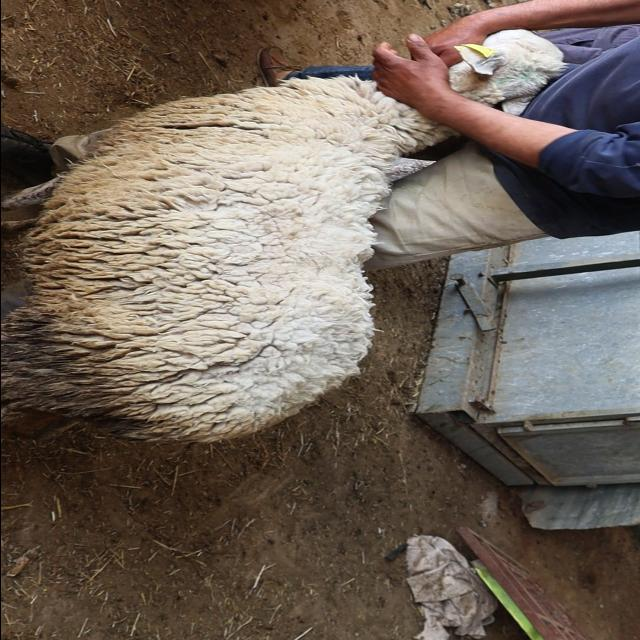Score_4: (1, 78, 456, 443)
